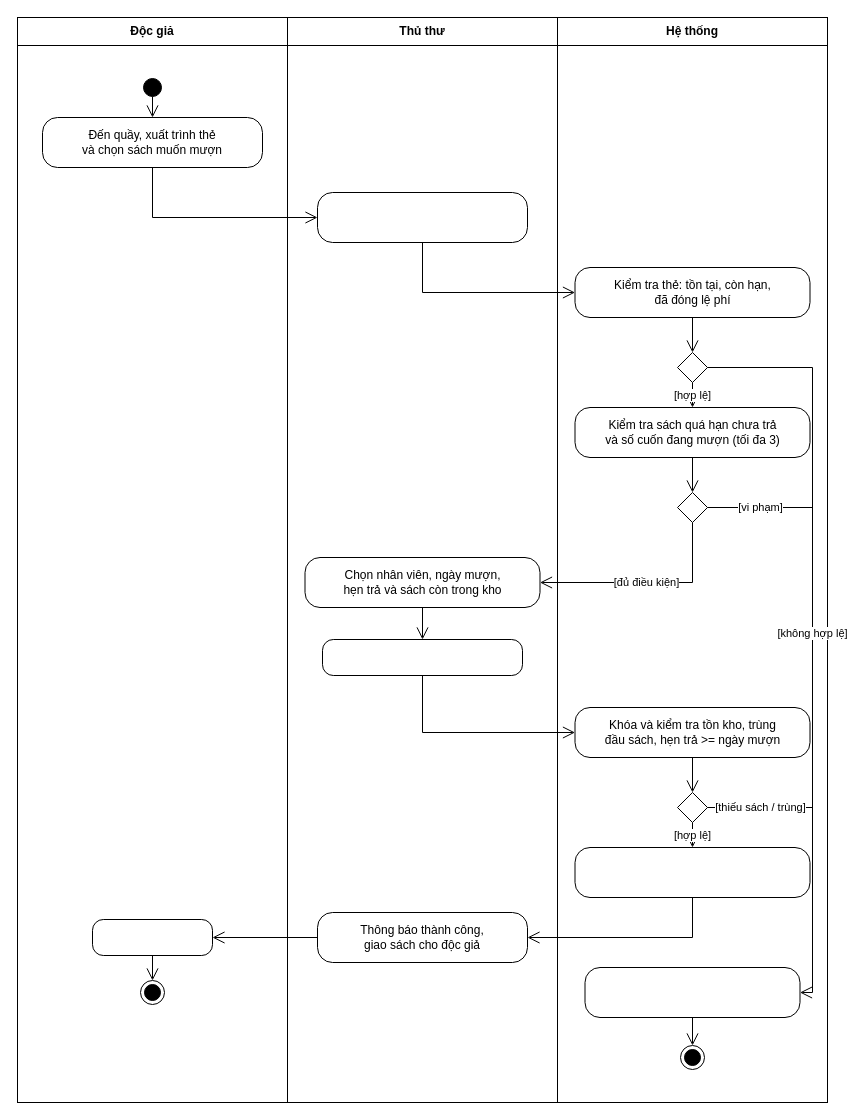
Some shapes in this 865 by 1120 pixel diagram are drawn without their labels. Each missing label, with the box of its shape:
Chọn độc giả, nhấn "Kiểm tra điều kiện": (316, 192, 528, 242)
Hiển thị lý do từ chối (thẻ, quá hạn, vượt 3, hết sách): (584, 966, 800, 1018)
Lưu phiếu mượn, chi tiết và trừ tồn kho trong một transaction: (574, 846, 810, 898)
Nhấn "Lập phiếu mượn": (322, 638, 522, 676)
Nhận sách: (92, 918, 212, 956)
